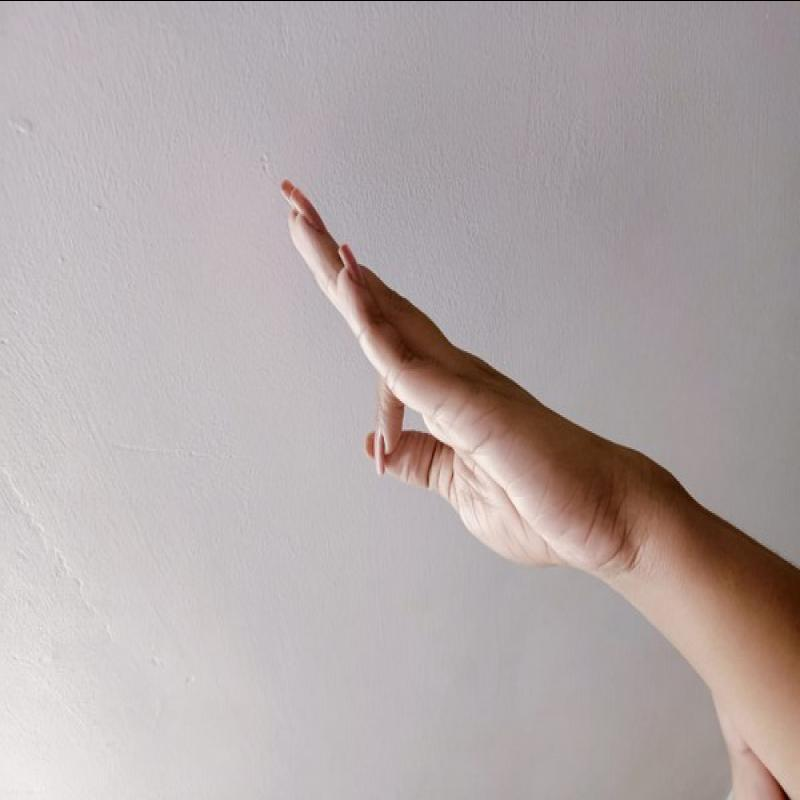Mudraakhyam: (260, 160, 643, 588)
